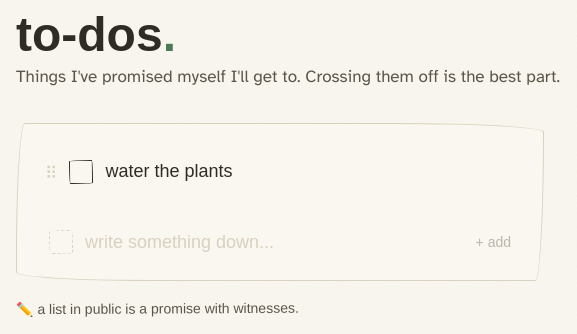
Test: TodoList › escape abandons a rename
Click the button "water the plants" at (169, 171), box [106,161,233,181]
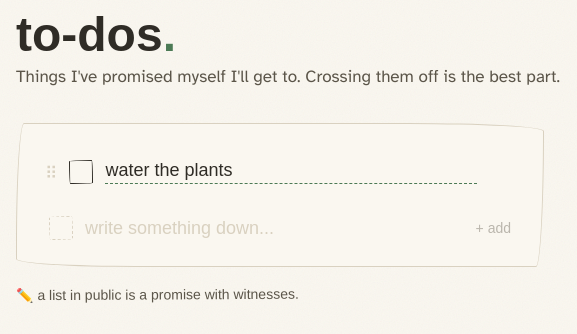
Type " and more" into the field named "edit \"water the plants\"" at (291, 171), box [106,158,477,184]
Then press Escape
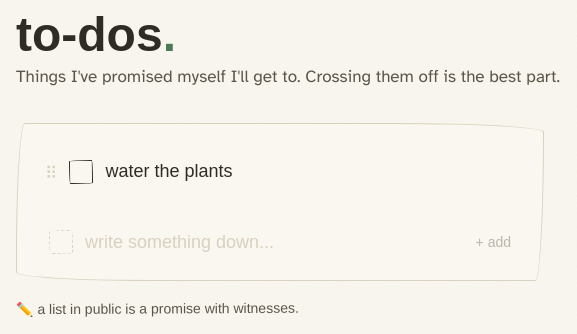
expect the button "water the plants" is shown: met, box [106,161,233,181]
